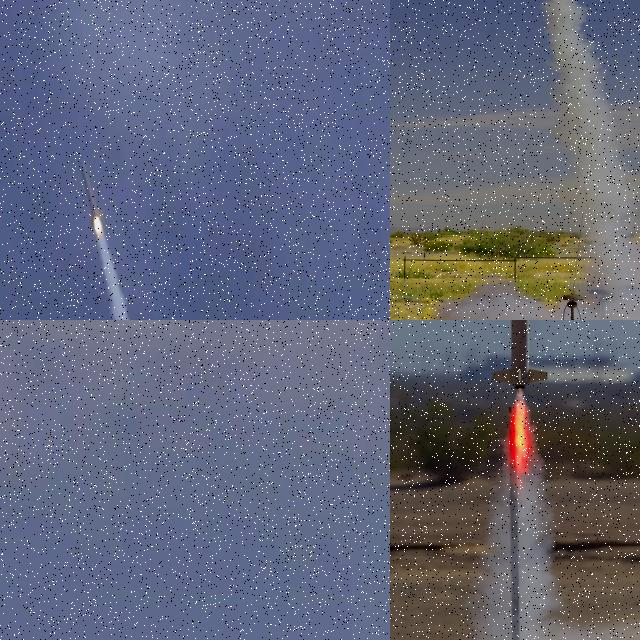Rocket: (491, 320, 549, 391), (80, 159, 103, 225)
